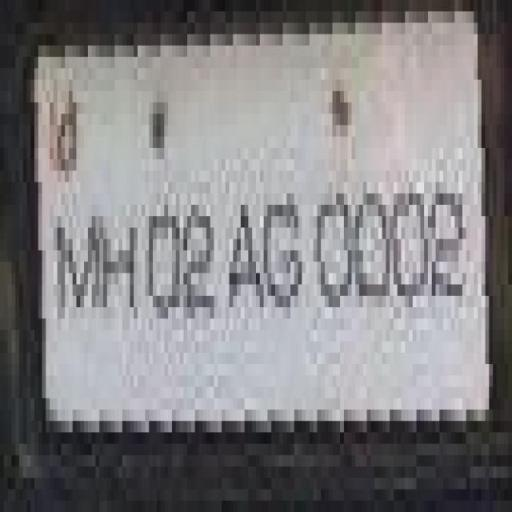number plate: (30, 22, 501, 444)
